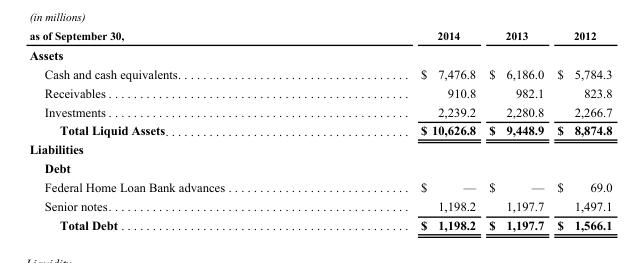table: (28, 28, 611, 231)
table column: (28, 28, 322, 231), (322, 28, 481, 231), (481, 28, 549, 231), (549, 28, 611, 231)
table column header: (28, 28, 611, 44)
table projected row header: (28, 44, 611, 63), (28, 139, 611, 158), (28, 158, 611, 177)
table row: (28, 44, 611, 63), (28, 63, 611, 82), (28, 82, 611, 101), (28, 101, 611, 120), (28, 120, 611, 139), (28, 139, 611, 158), (28, 158, 611, 177), (28, 177, 611, 196), (28, 196, 611, 215), (28, 28, 611, 44), (28, 215, 611, 231)
